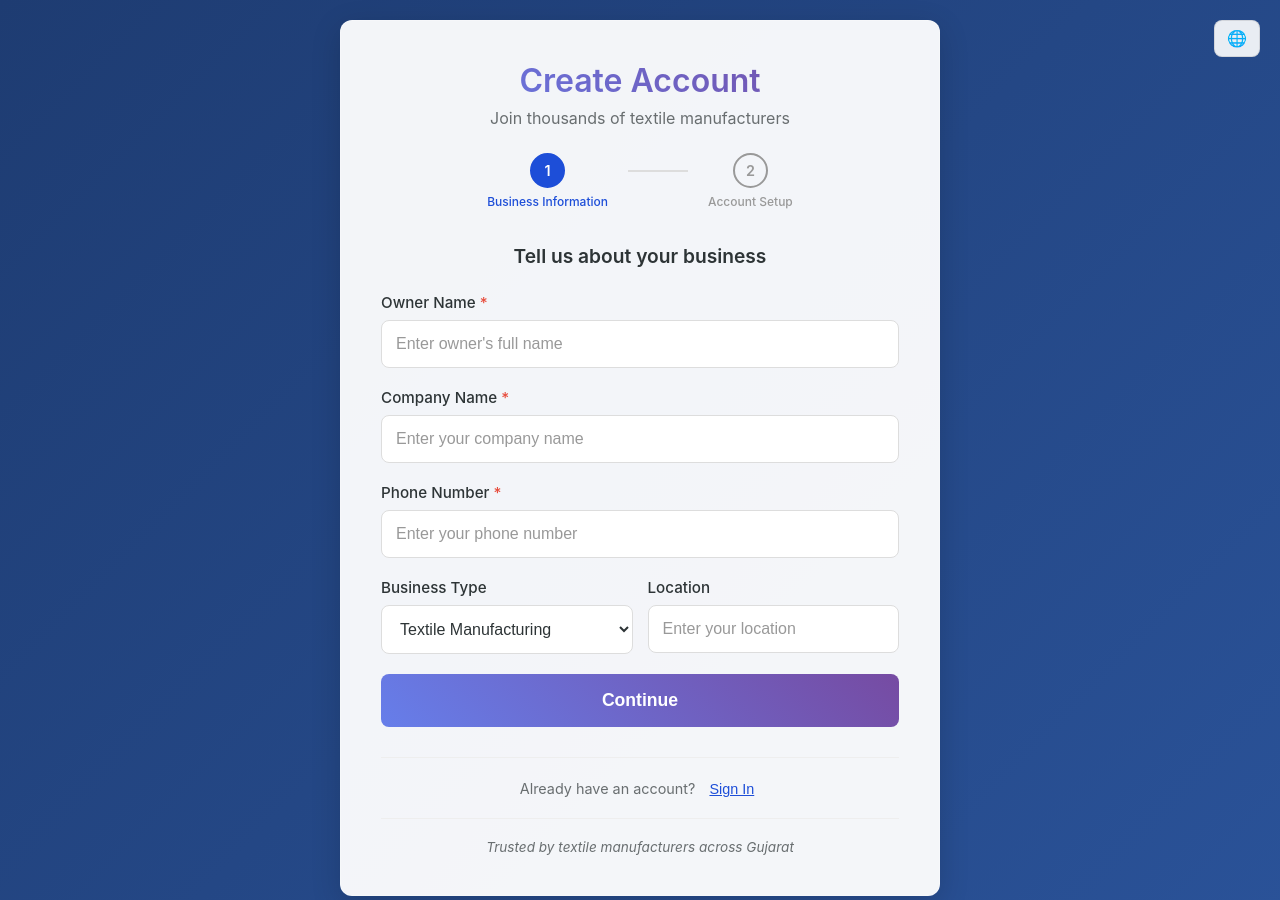
Test: SignUp Component › Step Navigation › should proceed to Step 2 when Step 1 is filled correctly
The image size is (1280, 900).
Fill Step 1 required fields
Type "John Doe" into the field labelled "Owner Name *" at [640, 344], box [381,320,899,368]
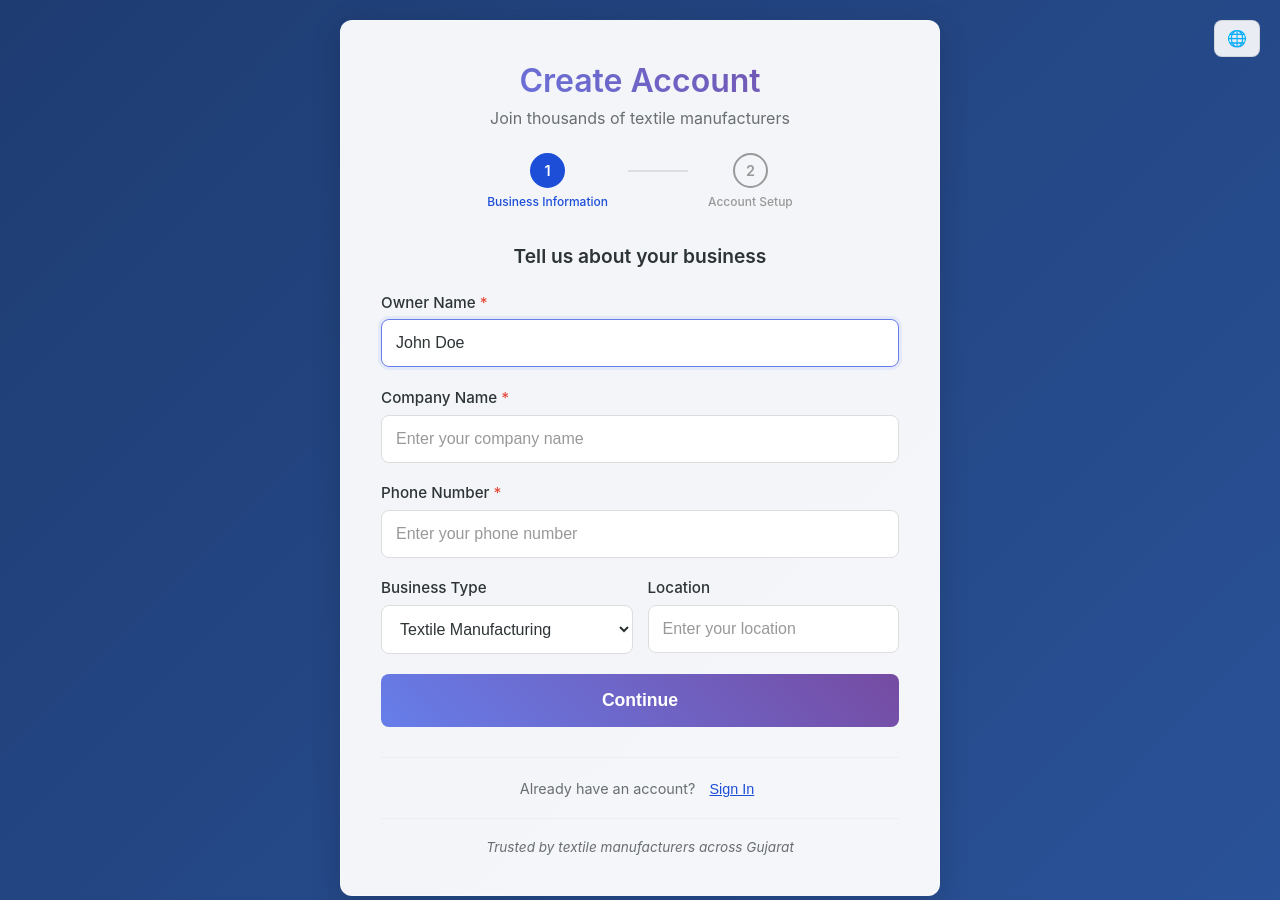
Type "Surat Textiles" into the field labelled "Company Name *" at [640, 439], box [381,415,899,463]
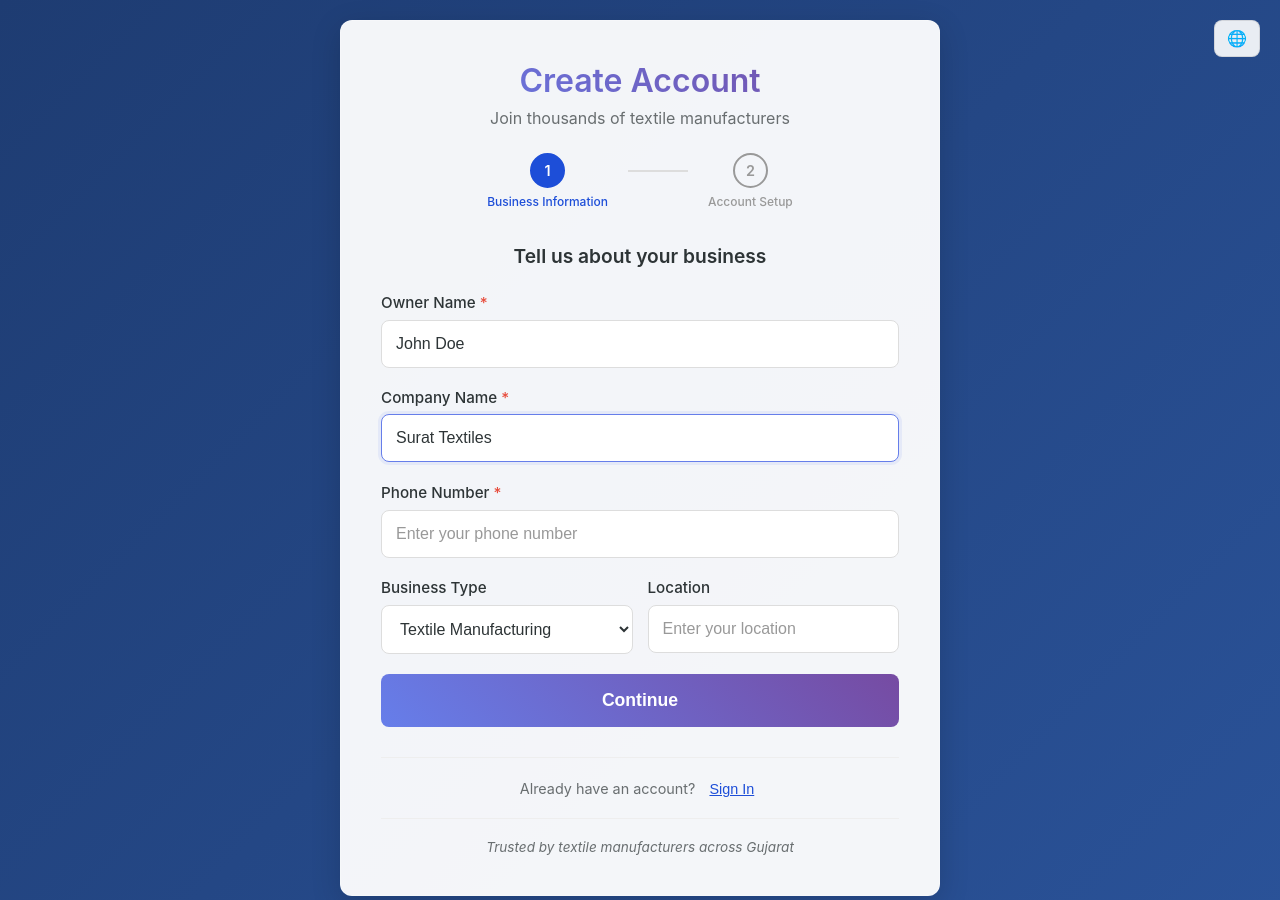
Type "9876543210" into the field labelled "Phone Number *" at [640, 534], box [381,510,899,558]
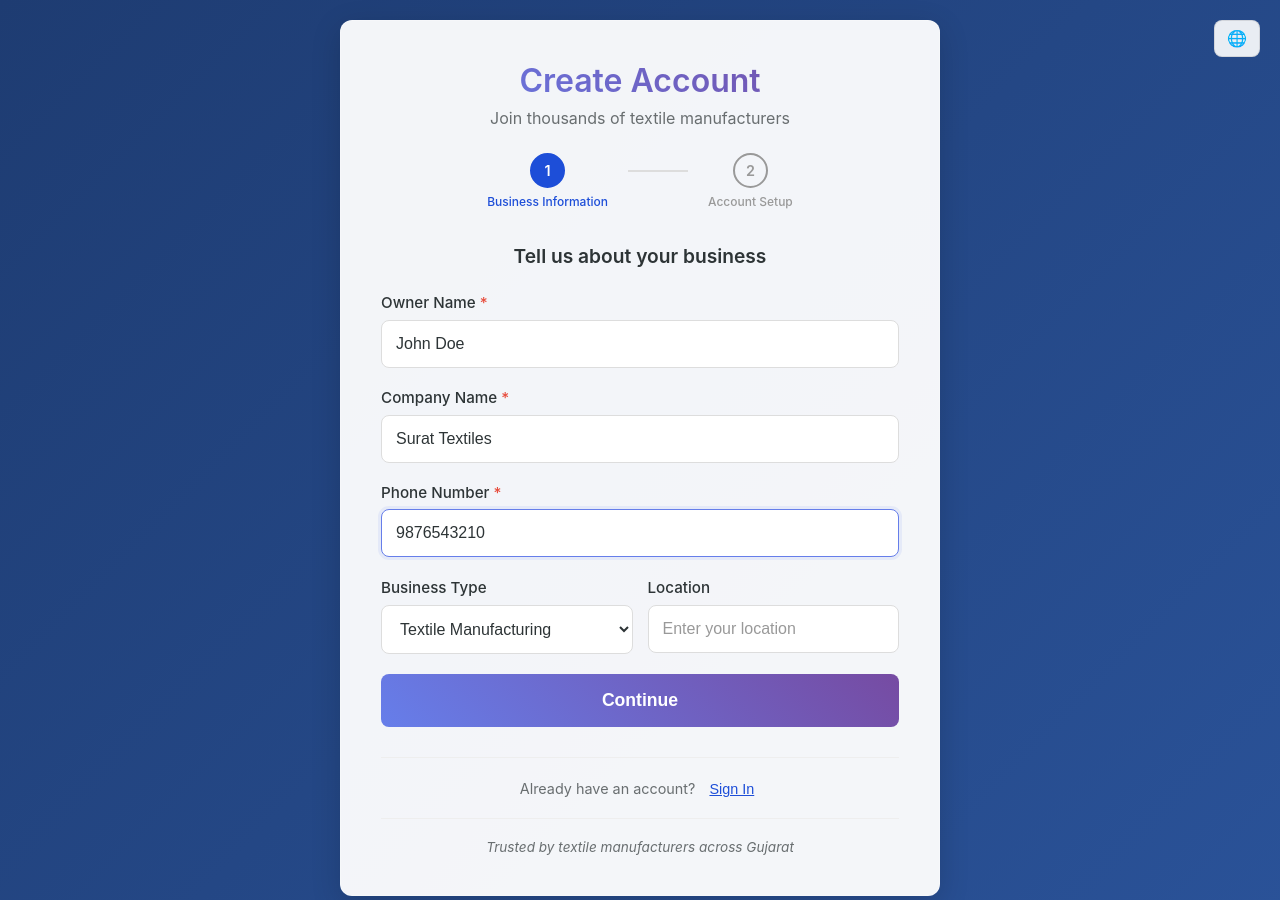
Click the button "Continue" at [640, 700], box [381,674,899,727]
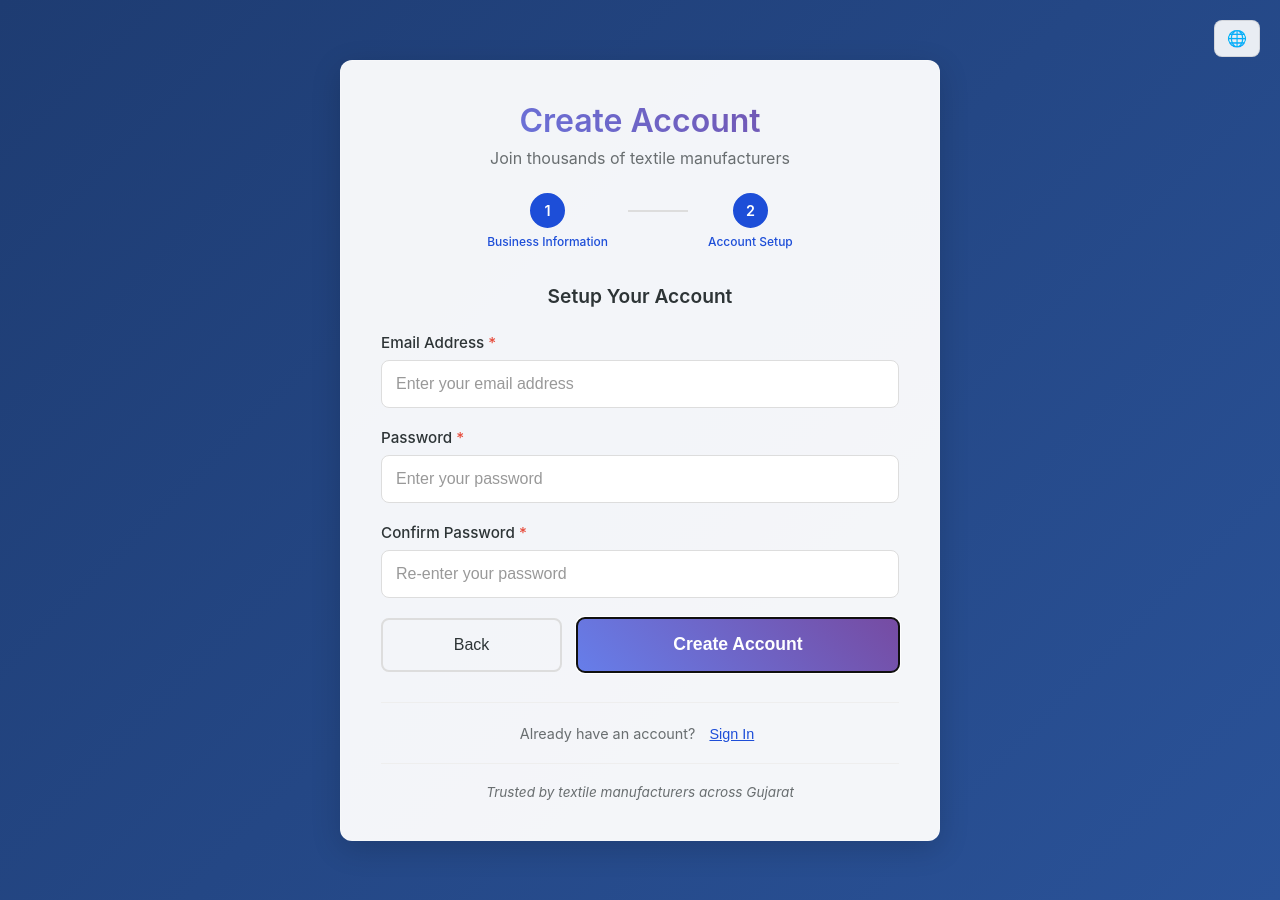
Check: the text "Setup Your Account" is shown, box [548,284,732,308]
Check: the field labelled "Email Address *" is shown, box [381,360,899,408]
Check: the button "Back" is shown, box [381,618,562,672]
